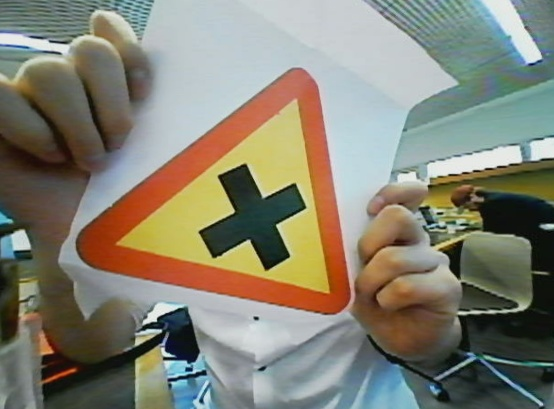junction: (77, 69, 353, 329)
